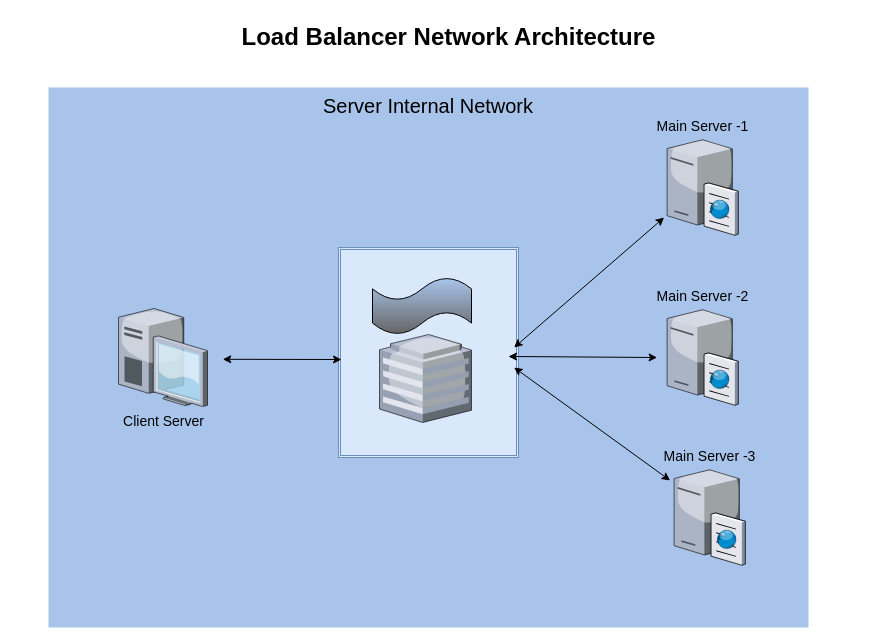
Some shapes in this 895 by 644 pixel diagram are drawn without their labels. Each missing label, with the centre of its shape:
Eureka Naming Server: (x=425, y=378)
Ribbon: (x=422, y=305)
